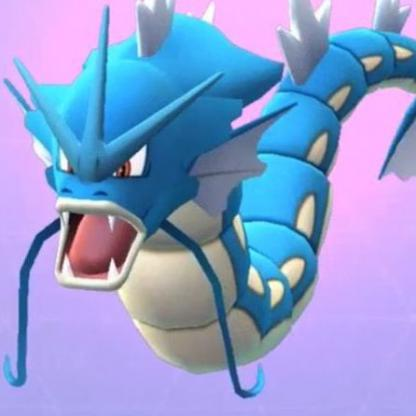Gyarados: (10, 1, 416, 390)
